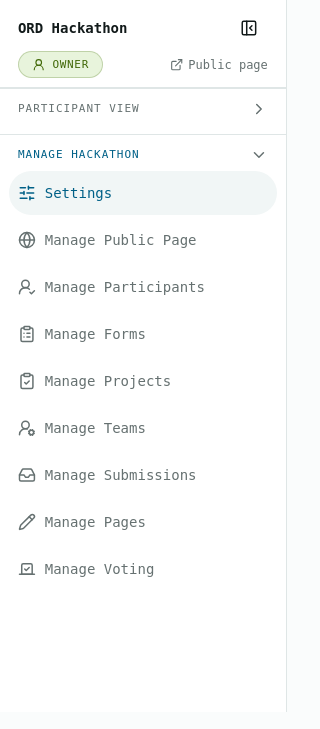
Test case: HackathonSidebar's Participant View section › opens from the chevron
The image size is (320, 729).
Click the button with aria-label "Show Participant View": (79, 109) [9,98,277,123]
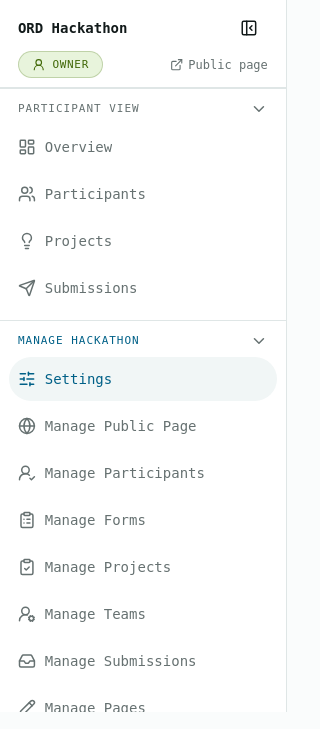
Expected: the link "Overview" is shown, [18,138,112,156]
